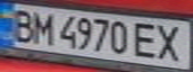0: (109, 18, 133, 56)
4: (54, 12, 78, 48)
7: (90, 16, 112, 53)
9: (72, 15, 93, 51)
B: (6, 7, 39, 43)
E: (130, 20, 163, 60)
M: (30, 10, 57, 46)
X: (151, 21, 190, 62)
